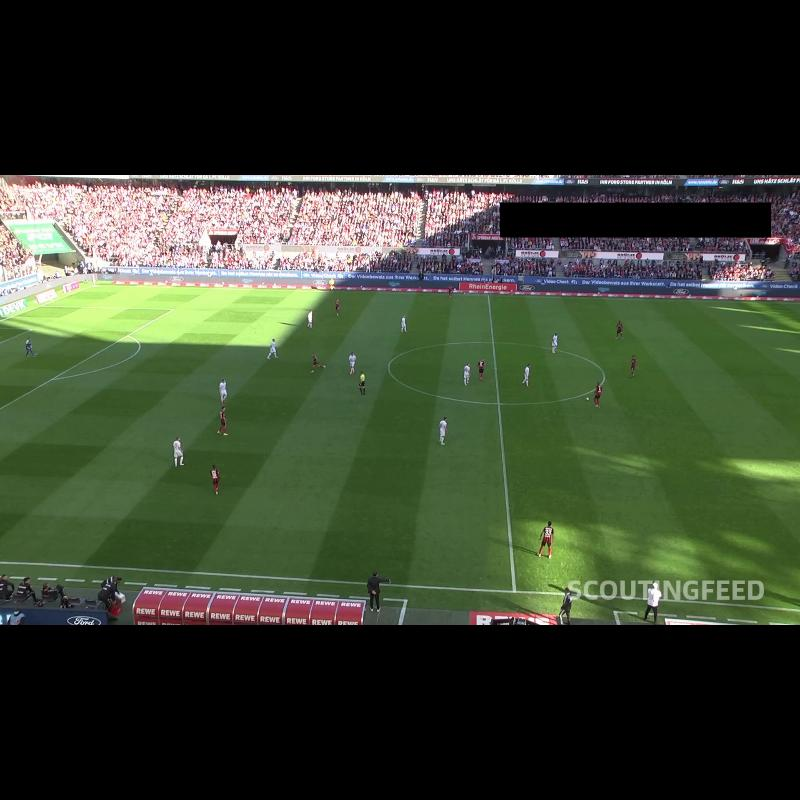cross_recipient_zone: (0, 306, 173, 409)
crossing_player_zone: (0, 439, 185, 566), (41, 285, 333, 312), (689, 301, 800, 324)
pitch: (0, 285, 800, 610)
